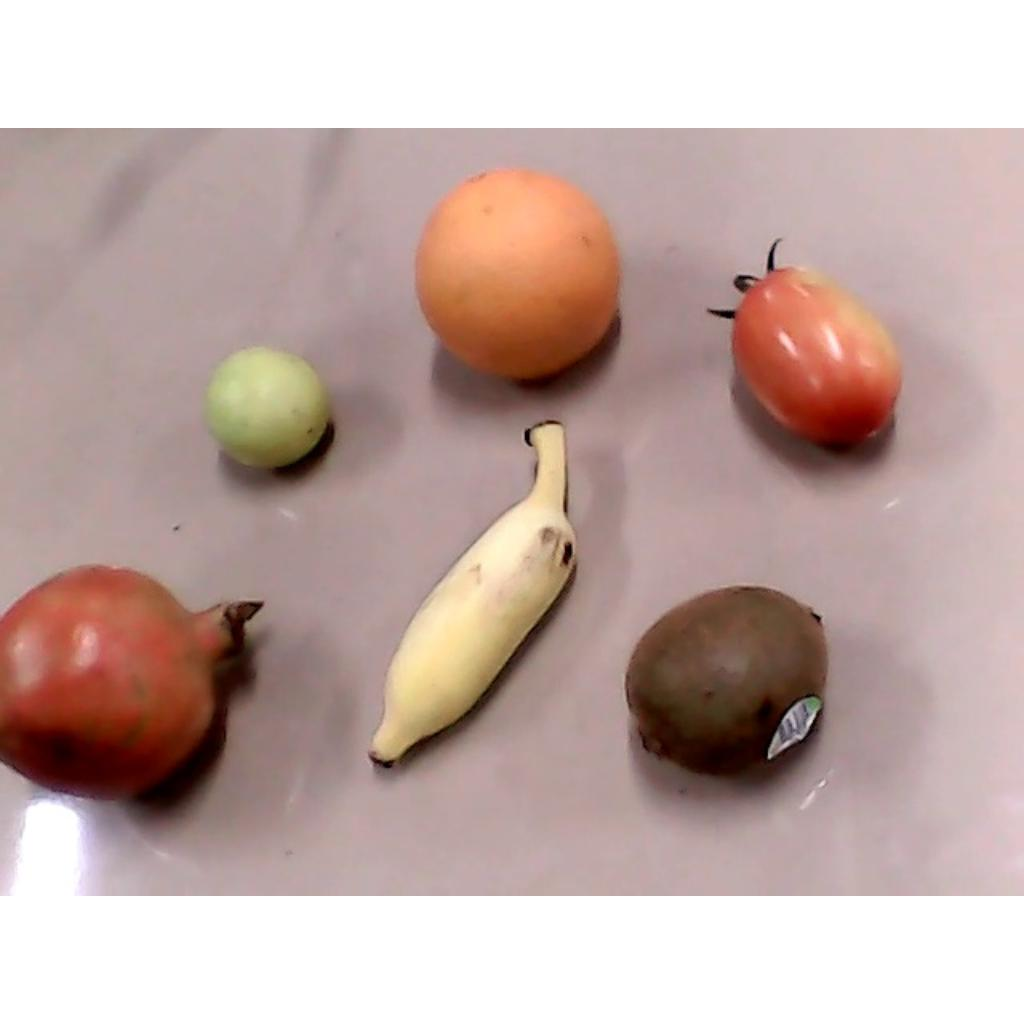kiwi: (627, 585, 828, 775)
lemon: (203, 347, 326, 467)
orange: (415, 167, 623, 380)
pomegranate: (1, 564, 266, 799)
tomato: (706, 238, 902, 441)
